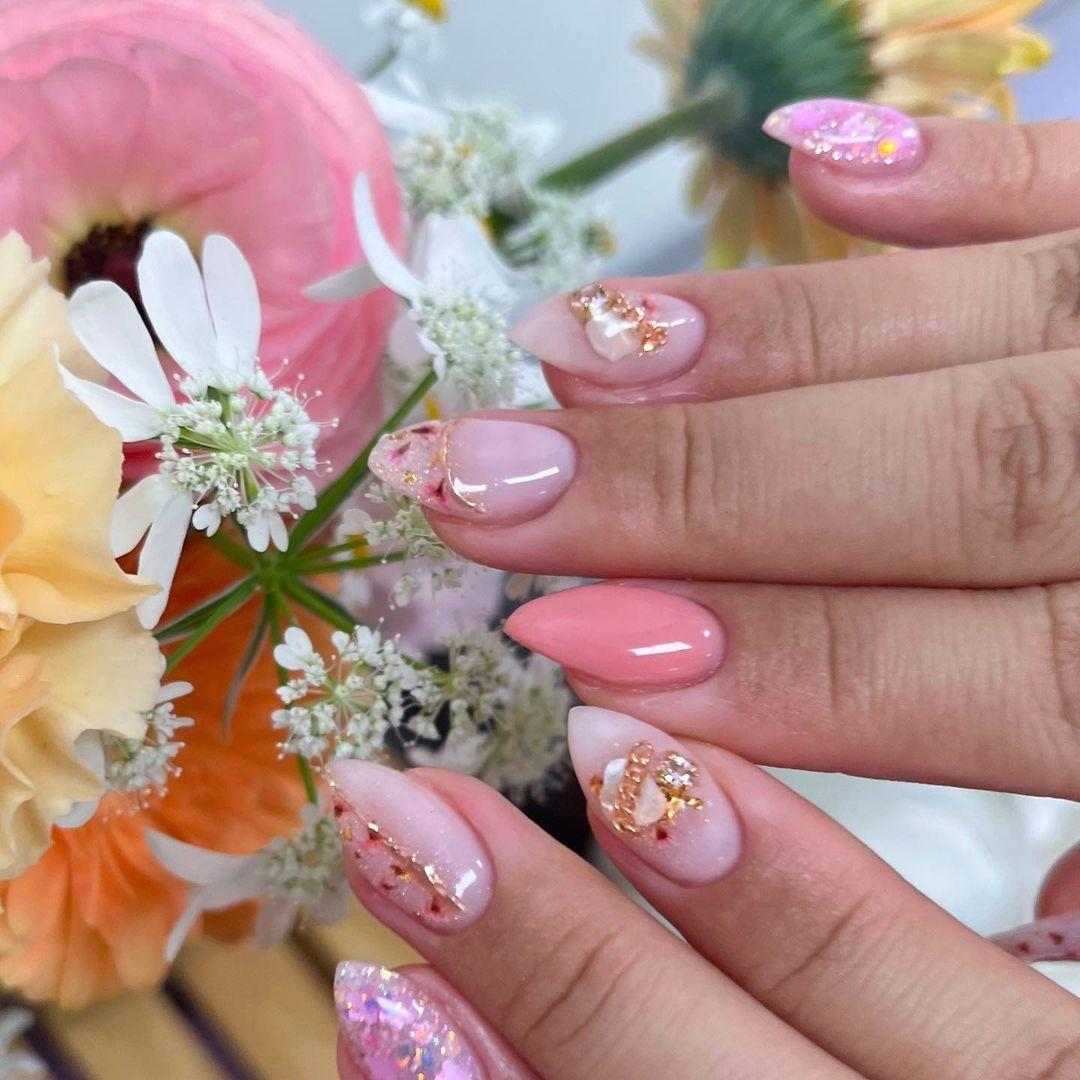nail: (565, 703, 743, 887), (324, 756, 495, 935), (331, 958, 542, 1078), (501, 580, 727, 692), (366, 413, 579, 529), (506, 280, 707, 389), (760, 95, 926, 177)
